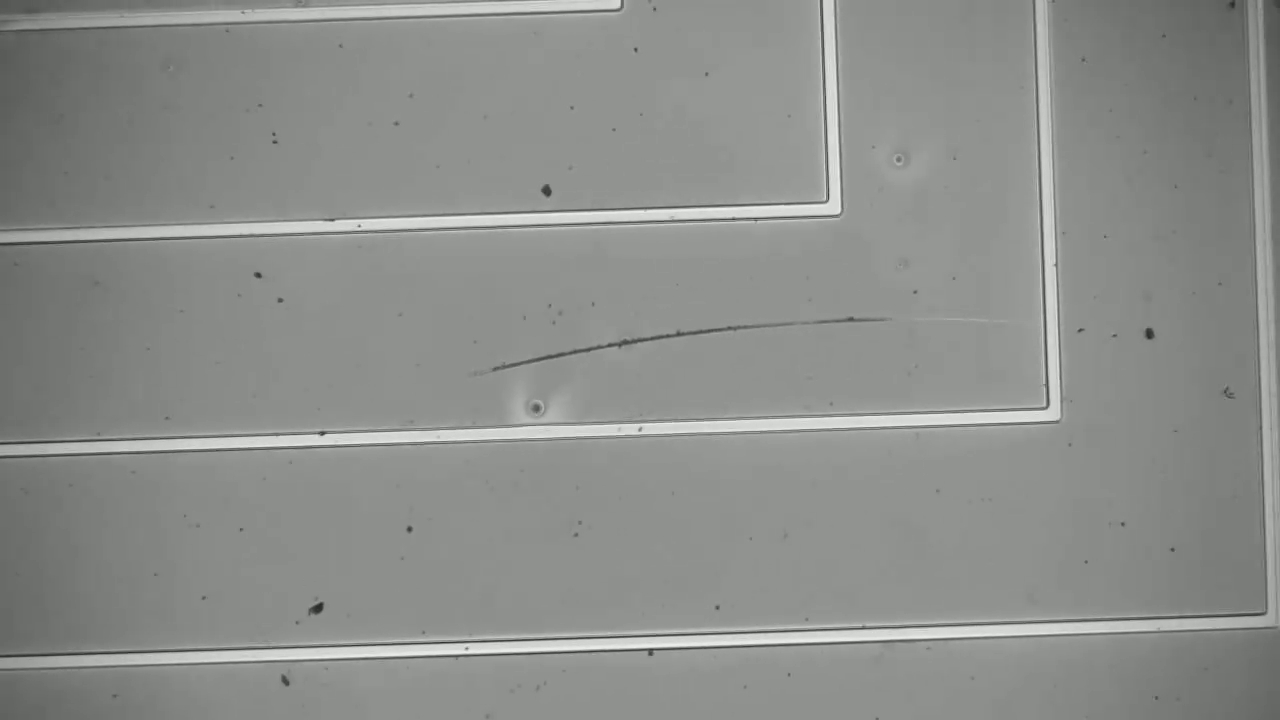scratch: (488, 293, 890, 373)
